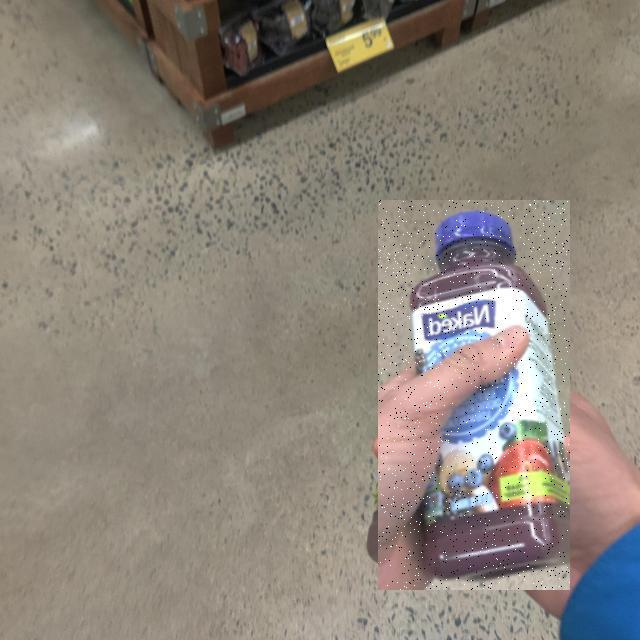Juice: (379, 200, 571, 590)
